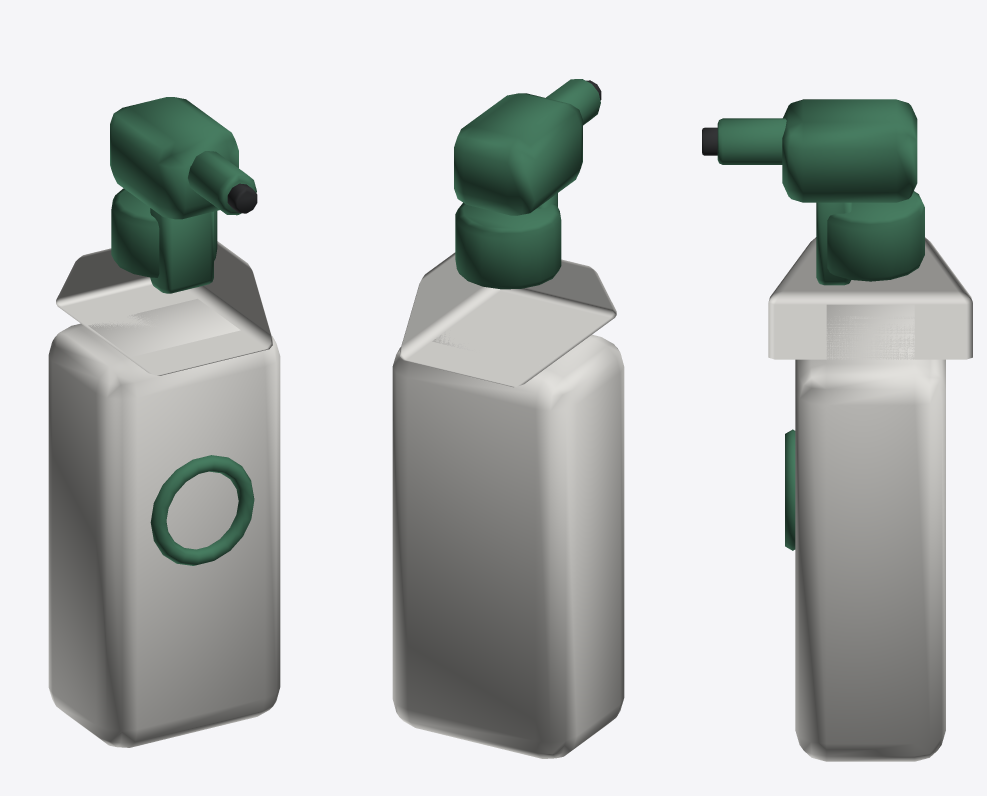
File: asset_076_cleaning_spray_bottle.glb
The picture shows the model from 3 angles, left to right: view 1: azimuth 30°, elevation 25°; view 2: azimuth 150°, elevation 25°; view 3: azimuth 270°, elevation 25°; orthographic projection. The views are drawn at different scales.
Parts seen in each view (by area): view 1: MESH_SprayBody, MESH_SprayShoulder, MESH_SprayHead, MESH_SprayBrandRing, MESH_SprayTriggerBlade, MESH_SprayCollar, MESH_SprayNozzle, MESH_SprayNozzleTip; view 2: MESH_SprayBody, MESH_SprayShoulder, MESH_SprayHead, MESH_SprayCollar, MESH_SprayNozzle; view 3: MESH_SprayBody, MESH_SprayShoulder, MESH_SprayHead, MESH_SprayCollar, MESH_SprayNozzle, MESH_SprayTriggerBlade, MESH_SprayBrandRing.
Boxes of the visible parts, bbox=[...] form: MESH_SprayBody: bbox=[48, 298, 280, 747]; MESH_SprayShoulder: bbox=[56, 241, 272, 375]; MESH_SprayHead: bbox=[110, 97, 238, 219]; MESH_SprayBrandRing: bbox=[150, 455, 254, 565]; MESH_SprayTriggerBlade: bbox=[150, 208, 213, 293]; MESH_SprayCollar: bbox=[111, 188, 217, 277]; MESH_SprayNozzle: bbox=[188, 151, 256, 215]; MESH_SprayNozzleTip: bbox=[227, 183, 257, 213]; MESH_SprayBody: bbox=[392, 334, 624, 758]; MESH_SprayShoulder: bbox=[400, 252, 616, 387]; MESH_SprayHead: bbox=[454, 93, 582, 215]; MESH_SprayCollar: bbox=[455, 202, 561, 289]; MESH_SprayNozzle: bbox=[546, 79, 600, 125]; MESH_SprayBody: bbox=[795, 304, 945, 761]; MESH_SprayShoulder: bbox=[768, 237, 972, 359]; MESH_SprayHead: bbox=[782, 99, 917, 202]; MESH_SprayCollar: bbox=[827, 191, 924, 281]; MESH_SprayNozzle: bbox=[717, 118, 786, 164]; MESH_SprayTriggerBlade: bbox=[816, 202, 852, 285]; MESH_SprayBrandRing: bbox=[785, 429, 795, 550].
Bounding box in the file's own units: 0.1 × 0.28 × 0.1044.
